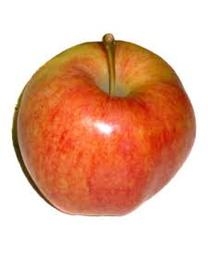apple: (12, 34, 196, 215)
